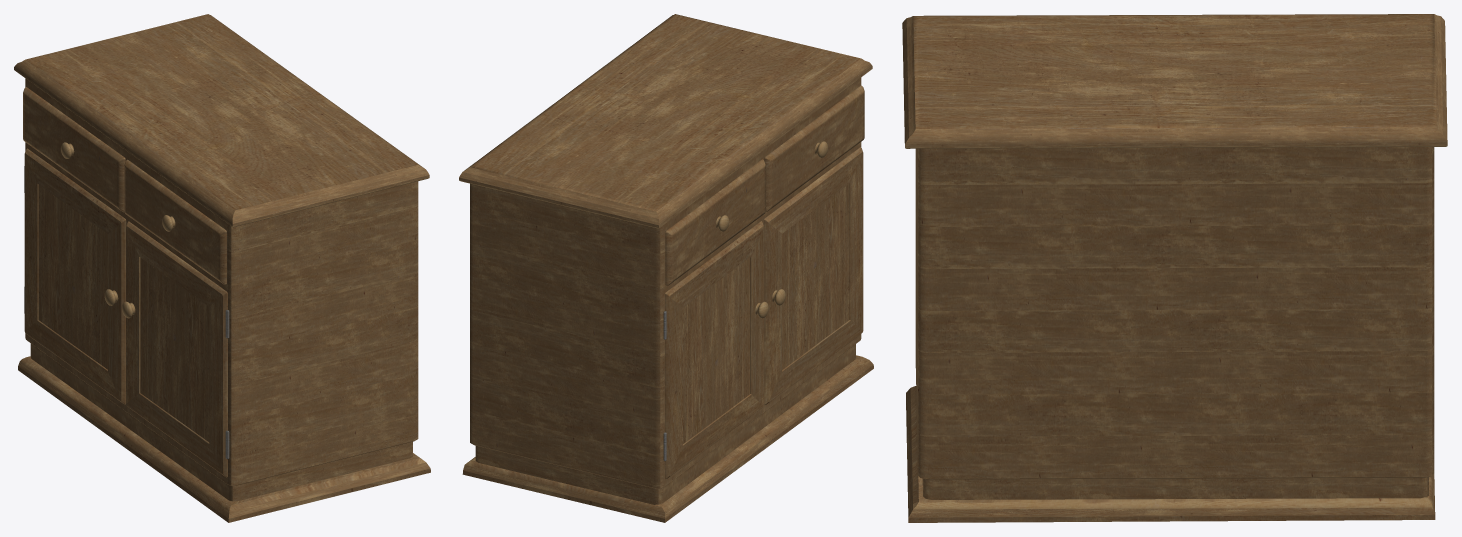
File: SM_Cabinet_01.fbx
The picture shows the model from 3 angles, left to right: view 1: azimuth 30°, elevation 25°; view 2: azimuth 150°, elevation 25°; view 3: azimuth 270°, elevation 25°; orthographic projection. The views are drawn at different scales.
Parts seen in each view (by area): view 1: Cabinet1; view 2: Cabinet1; view 3: Cabinet1.
Part boxes in pixels (left/top/right/bottom): Cabinet1: left=14, top=14, right=430, bottom=522; Cabinet1: left=459, top=14, right=873, bottom=522; Cabinet1: left=902, top=14, right=1447, bottom=522.
Bounding box in the file's own units: 62.75 × 86.97 × 110.
